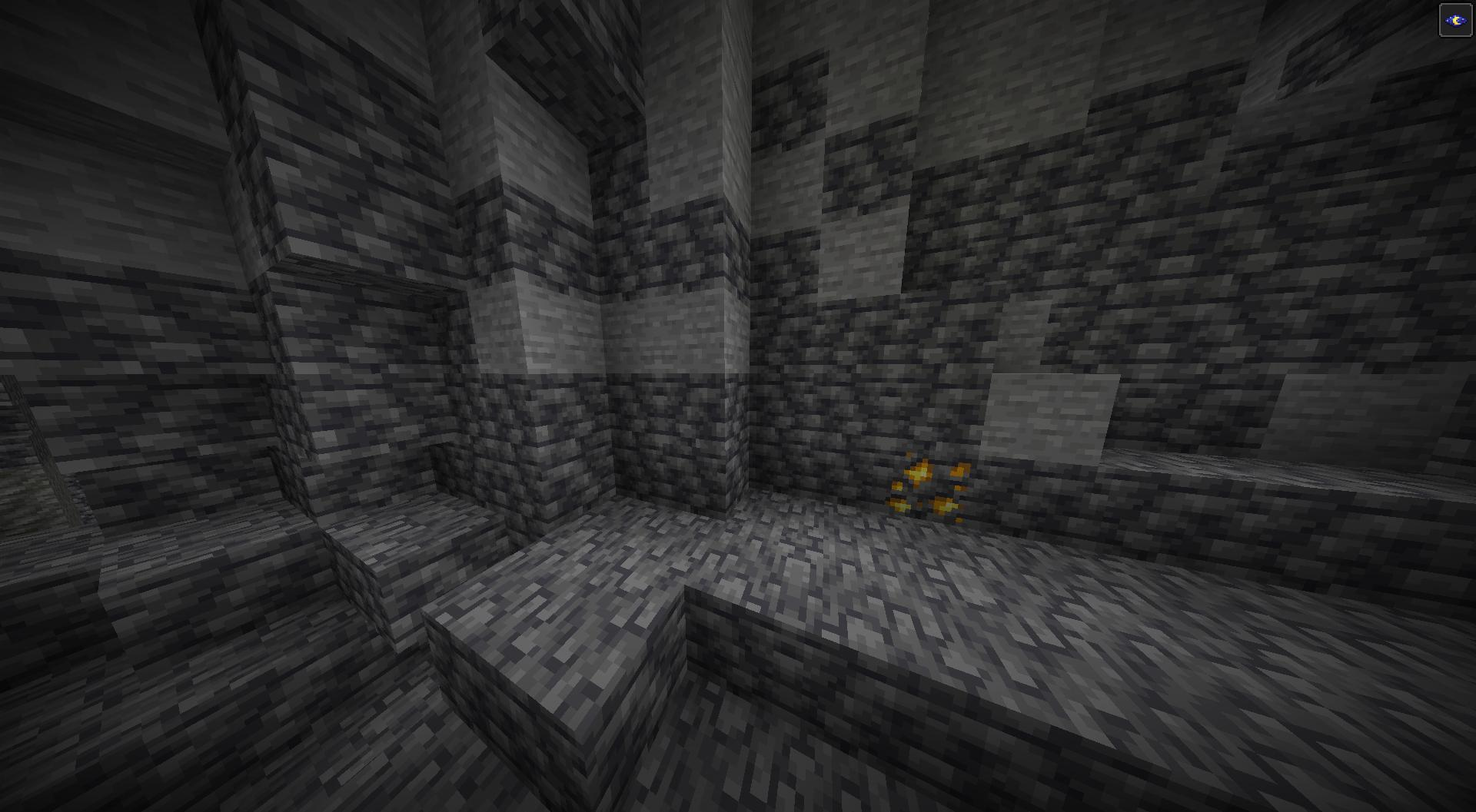gold ore: (887, 447, 969, 522)
